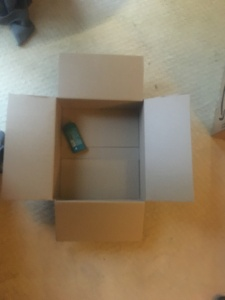innerbox: (55, 97, 145, 202)
outerbox: (6, 53, 195, 244)
product: (61, 123, 88, 156)
